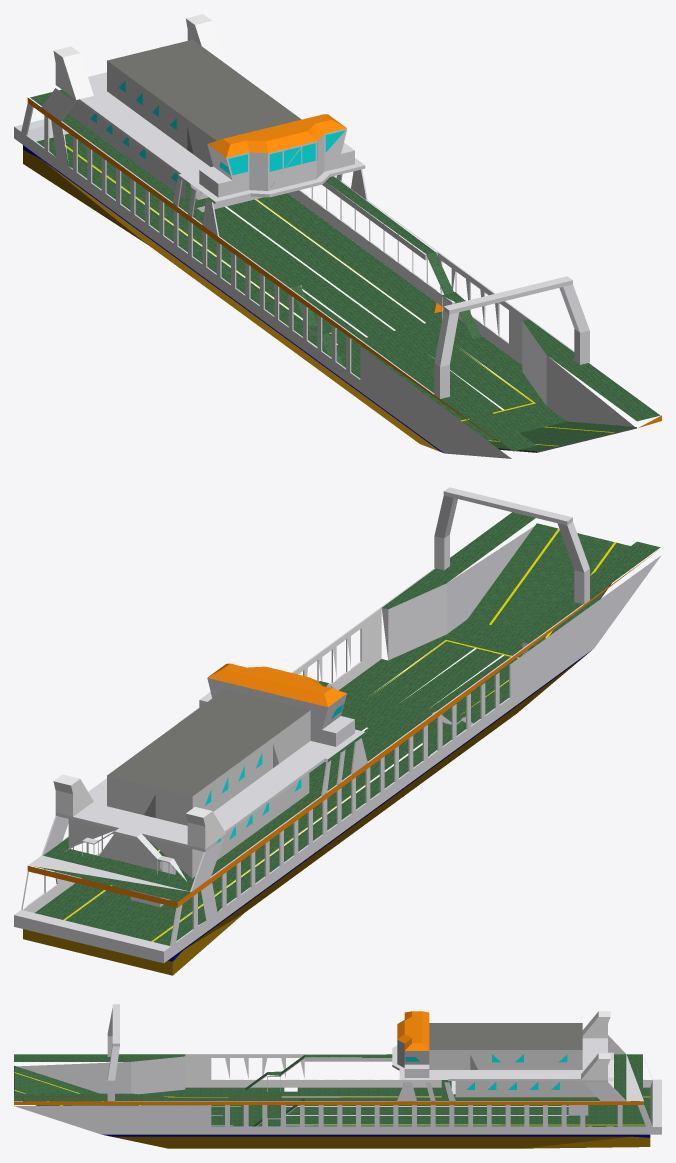
Rendered from lct-ferry.zfix-v5.lod1.glb.
3 renders of one model, top to bottom at view 1: azimuth 30°, elevation 25°; view 2: azimuth 150°, elevation 25°; view 3: azimuth 270°, elevation 25°, orthographic. The views are drawn at different scales.
Parts seen in each view (by area): view 1: Material2 (×3); view 2: Material2 (×3); view 3: Material2 (×3).
Part boxes in pixels (box(x1,y1,x2,y2)): Material2 (×3): box(14, 14, 661, 458); Material2 (×3): box(14, 487, 661, 975); Material2 (×3): box(14, 1004, 661, 1148).
Size of the model in its own units: 6.95 by 7.44 by 40.
3 materials, 2 textured.
